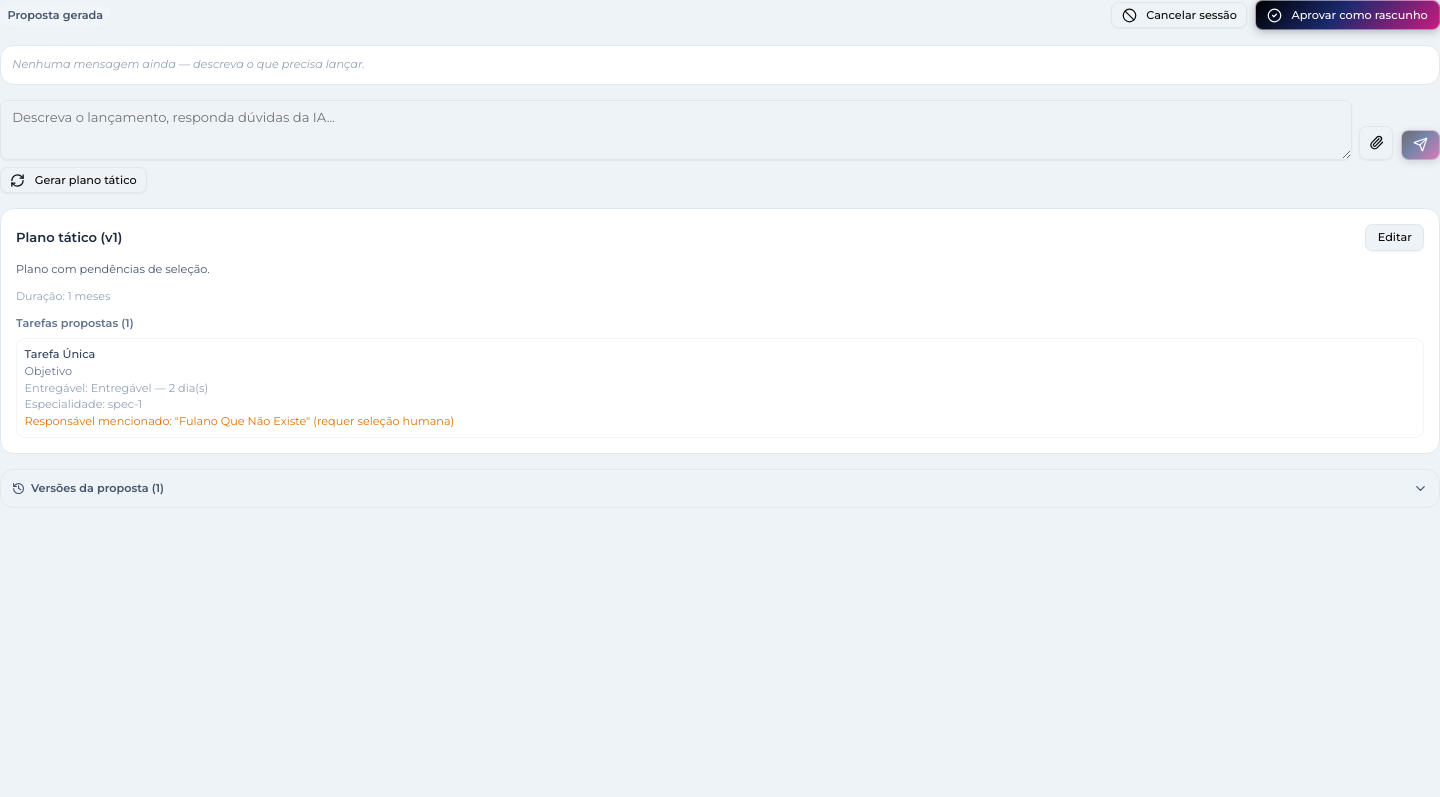
Test: LaunchSessionPanel › editor: troca de especialidade e seleção de responsável são salvas e persistem ao reabrir a versão
Later steps or results of the test are not shown.
Click the button "Editar".
click(1395, 237)  # box [1366,224,1424,251]
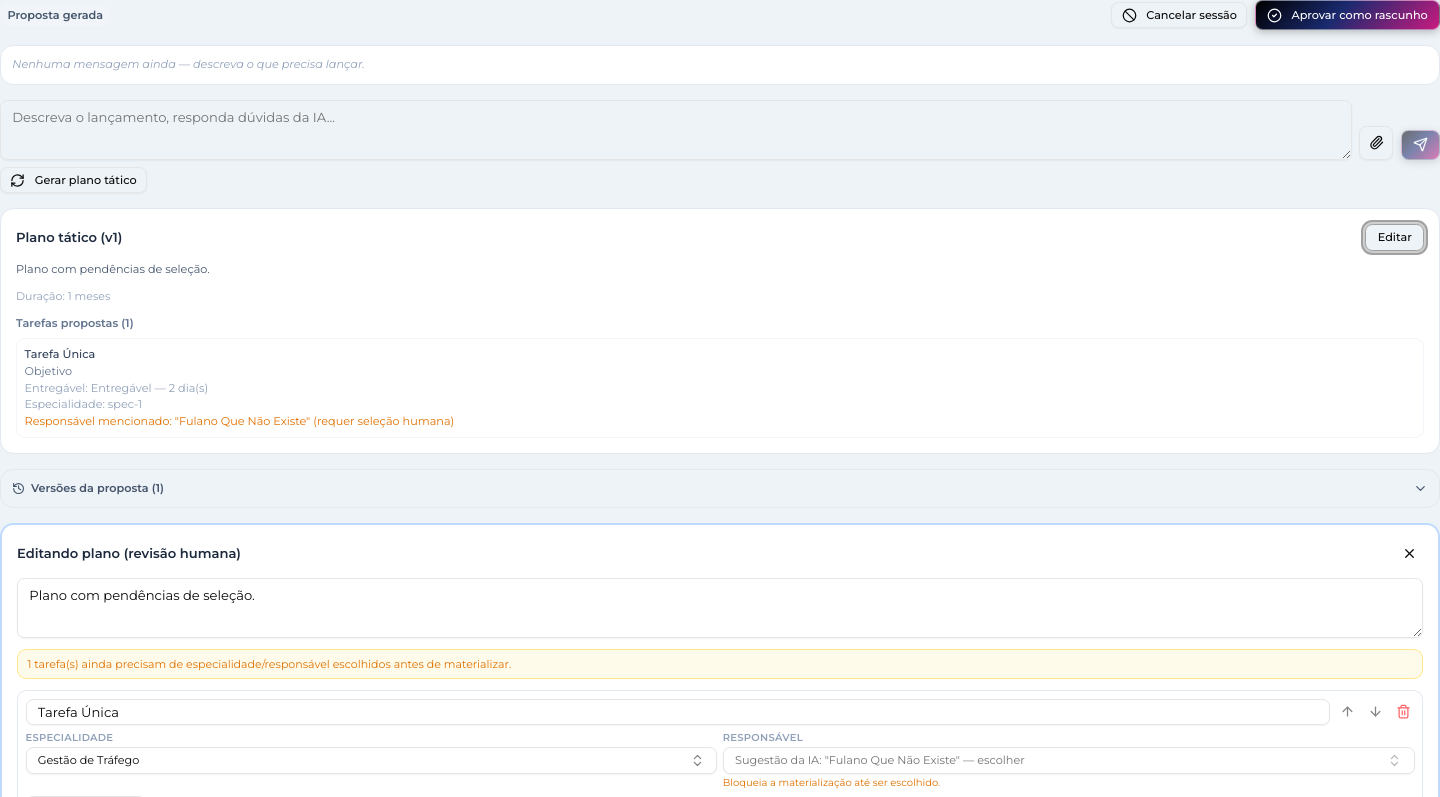
expect the heading "Editando plano (revisão humana)" is shown: met, box [17,544,241,563]
